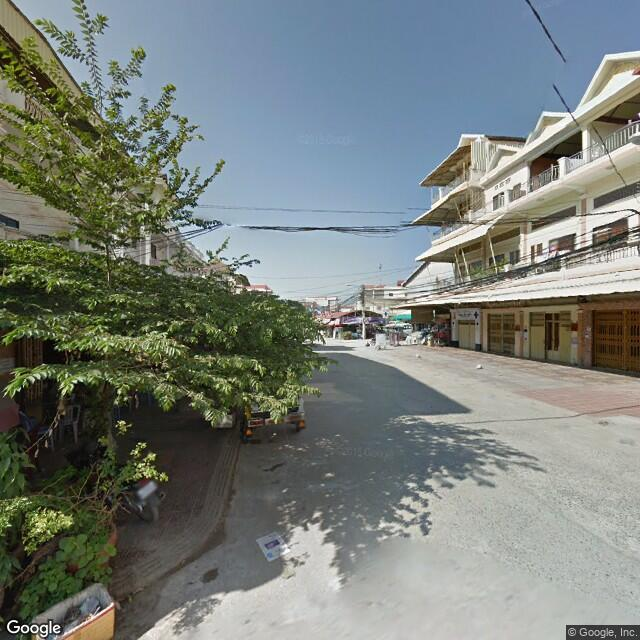litter: (240, 521, 303, 567)
